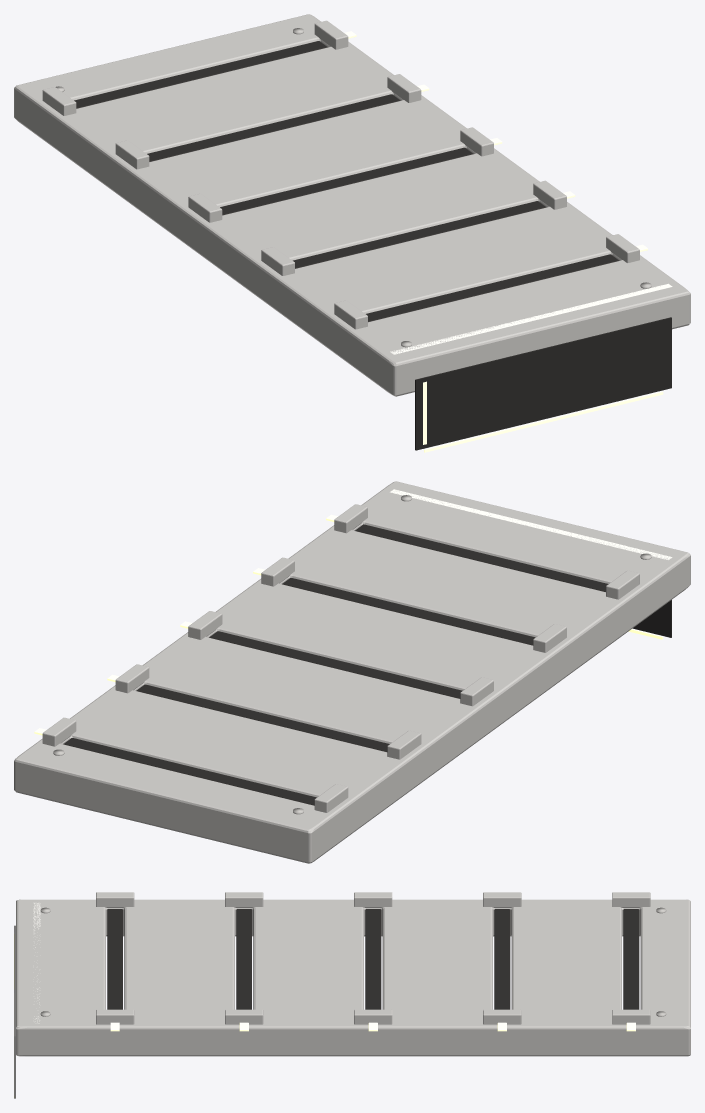
Rendered from board.glb.
3 renders of one model, top to bottom at view 1: azimuth 30°, elevation 25°; view 2: azimuth 150°, elevation 25°; view 3: azimuth 270°, elevation 25°, orthographic. The views are drawn at different scales.
Visible parts, largest first — view 1: GEO_Board_Slab, GEO_Board_Plate, SOCKET_CAVITY_02, SOCKET_CAVITY_03, SOCKET_CAVITY_01, SOCKET_CAVITY_04, SOCKET_CAVITY_00, GEO_Board_LightRail, GEO_Board_PlateGlow, GEO_Board_Guide_04_B, GEO_Board_Guide_03_B, GEO_Board_Guide_02_B (+1 smaller); view 2: GEO_Board_Slab, SOCKET_CAVITY_01, SOCKET_CAVITY_02, SOCKET_CAVITY_04, SOCKET_CAVITY_03, SOCKET_CAVITY_00, GEO_Board_LightRail, GEO_Board_Plate, GEO_Board_Guide_04_B, GEO_Board_Guide_02_B, GEO_Board_Guide_03_B, GEO_Board_Guide_00_B (+6 smaller); view 3: GEO_Board_Slab, SOCKET_CAVITY_02, SOCKET_CAVITY_03, SOCKET_CAVITY_04, SOCKET_CAVITY_00, SOCKET_CAVITY_01, GEO_Board_Guide_02_A, GEO_Board_Guide_03_A, GEO_Board_Guide_04_A, GEO_Board_Guide_00_A, GEO_Board_Guide_01_A, GEO_Board_Guide_00_B (+5 smaller).
Part boxes in pixels (left/top/right/bottom): GEO_Board_Slab: left=14, top=14, right=690, bottom=396; GEO_Board_Plate: left=415, top=317, right=671, bottom=450; SOCKET_CAVITY_02: left=220, top=147, right=473, bottom=215; SOCKET_CAVITY_03: left=147, top=94, right=400, bottom=161; SOCKET_CAVITY_01: left=293, top=201, right=546, bottom=268; SOCKET_CAVITY_04: left=74, top=41, right=327, bottom=108; SOCKET_CAVITY_00: left=366, top=254, right=618, bottom=321; GEO_Board_LightRail: left=390, top=283, right=672, bottom=354; GEO_Board_PlateGlow: left=424, top=391, right=663, bottom=452; GEO_Board_Guide_04_B: left=314, top=20, right=348, bottom=49; GEO_Board_Guide_03_B: left=387, top=74, right=421, bottom=102; GEO_Board_Guide_02_B: left=460, top=127, right=493, bottom=156; GEO_Board_Slab: left=14, top=481, right=690, bottom=863; SOCKET_CAVITY_01: left=282, top=578, right=535, bottom=645; SOCKET_CAVITY_02: left=209, top=631, right=462, bottom=698; SOCKET_CAVITY_04: left=63, top=738, right=316, bottom=805; SOCKET_CAVITY_03: left=136, top=684, right=389, bottom=751; SOCKET_CAVITY_00: left=355, top=524, right=608, bottom=591; GEO_Board_LightRail: left=390, top=489, right=672, bottom=559; GEO_Board_Plate: left=633, top=600, right=671, bottom=637; GEO_Board_Guide_04_B: left=42, top=717, right=76, bottom=746; GEO_Board_Guide_02_B: left=188, top=611, right=222, bottom=639; GEO_Board_Guide_03_B: left=115, top=664, right=149, bottom=693; GEO_Board_Guide_00_B: left=334, top=504, right=367, bottom=533; GEO_Board_Slab: left=16, top=899, right=690, bottom=1056; SOCKET_CAVITY_02: left=365, top=909, right=381, bottom=1009; SOCKET_CAVITY_03: left=494, top=909, right=510, bottom=1009; SOCKET_CAVITY_04: left=623, top=909, right=639, bottom=1009; SOCKET_CAVITY_00: left=107, top=909, right=122, bottom=1009; SOCKET_CAVITY_01: left=236, top=909, right=251, bottom=1009; GEO_Board_Guide_02_A: left=354, top=892, right=392, bottom=907; GEO_Board_Guide_03_A: left=483, top=892, right=521, bottom=907; GEO_Board_Guide_04_A: left=612, top=892, right=650, bottom=907; GEO_Board_Guide_00_A: left=96, top=892, right=134, bottom=907; GEO_Board_Guide_01_A: left=225, top=892, right=263, bottom=907; GEO_Board_Guide_00_B: left=96, top=1009, right=134, bottom=1024.
Size of the model in its own units: 0.475 by 0.156 by 1.02.
